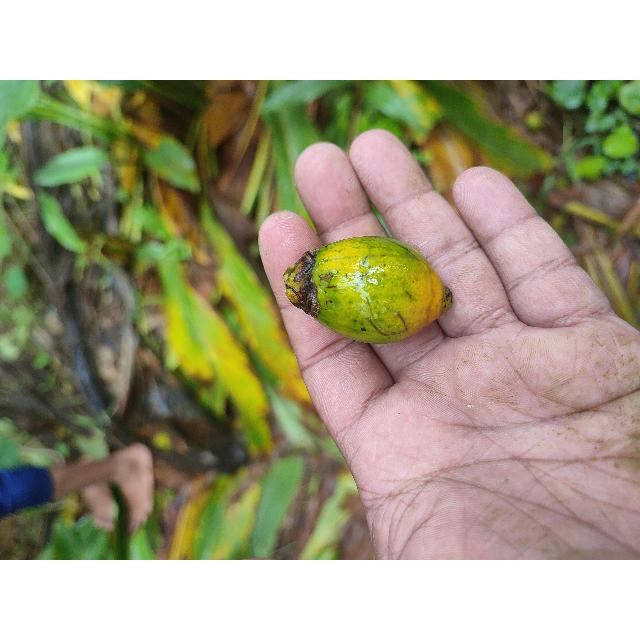damaged: (286, 236, 454, 346)
